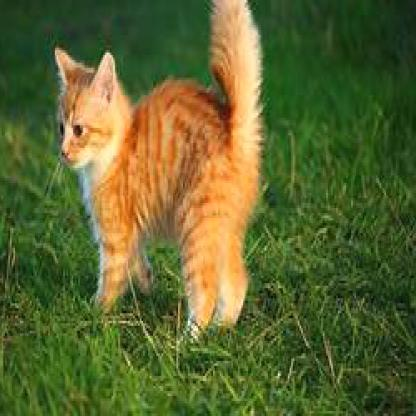cat: (55, 0, 264, 334)
